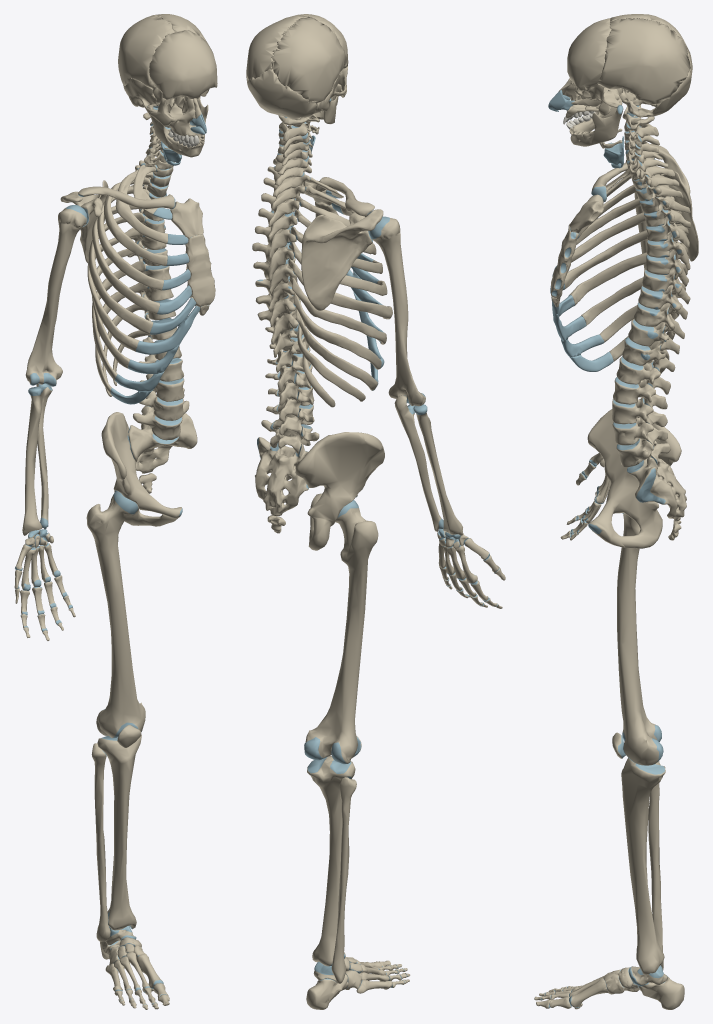
Rendered from bones.glb.
3 renders of one model, left to right at view 1: azimuth 30°, elevation 25°; view 2: azimuth 150°, elevation 25°; view 3: azimuth 270°, elevation 25°, orthographic. The views are drawn at different scales.
Visible parts, largest first — view 1: femur_r, frontal_bone, tibia_r, humerus_r, hip_bone_r, parietal_bone_r, sacrum, fibula_r, radius_r, body_of_sternum, sixth_rib_r, fourth_rib_r (+23 smaller); view 2: femur_r, hip_bone_r, scapula_r, parietal_bone_r, tibia_r, humerus_r, sacrum, fibula_r, occipital_bone, parietal_bone_l, ulna_r, radius_r (+17 smaller); view 3: parietal_bone_l, femur_r, hip_bone_r, tibia_r, frontal_bone, sacrum, fibula_r, mandible, scapula_r, occipital_bone, vertebra_l2, seventh_rib_r (+32 smaller).
Part boxes in pixels (x1=…): femur_r: x1=86, y1=491, x2=145, y2=737; frontal_bone: x1=149, y1=30, x2=217, y2=101; tibia_r: x1=97, y1=735, x2=141, y2=930; humerus_r: x1=25, y1=205, x2=87, y2=386; hip_bone_r: x1=101, y1=412, x2=182, y2=526; parietal_bone_r: x1=118, y1=15, x2=176, y2=87; sacrum: x1=128, y1=413, x2=197, y2=473; fibula_r: x1=91, y1=743, x2=110, y2=941; radius_r: x1=22, y1=386, x2=42, y2=535; body_of_sternum: x1=185, y1=234, x2=215, y2=306; sixth_rib_r: x1=88, y1=212, x2=153, y2=334; fourth_rib_r: x1=97, y1=185, x2=163, y2=290; femur_r: x1=304, y1=500, x2=378, y2=764; hip_bone_r: x1=295, y1=432, x2=384, y2=550; scapula_r: x1=301, y1=209, x2=383, y2=310; parietal_bone_r: x1=271, y1=16, x2=344, y2=103; tibia_r: x1=307, y1=756, x2=355, y2=966; humerus_r: x1=369, y1=216, x2=425, y2=406; sacrum: x1=255, y1=437, x2=308, y2=515; fibula_r: x1=331, y1=777, x2=356, y2=983; occipital_bone: x1=247, y1=69, x2=316, y2=118; parietal_bone_l: x1=246, y1=14, x2=307, y2=84; ulna_r: x1=394, y1=395, x2=443, y2=531; radius_r: x1=413, y1=404, x2=463, y2=535; parietal_bone_l: x1=597, y1=18, x2=690, y2=104; femur_r: x1=617, y1=513, x2=663, y2=765; hip_bone_r: x1=587, y1=409, x2=681, y2=548; tibia_r: x1=621, y1=758, x2=665, y2=975; frontal_bone: x1=567, y1=18, x2=611, y2=91; sacrum: x1=627, y1=441, x2=686, y2=521; fibula_r: x1=648, y1=761, x2=663, y2=970; mandible: x1=569, y1=104, x2=623, y2=146; scapula_r: x1=649, y1=144, x2=698, y2=261; occipital_bone: x1=619, y1=49, x2=692, y2=117; vertebra_l2: x1=613, y1=377, x2=667, y2=409; seventh_rib_r: x1=569, y1=242, x2=687, y2=305.
Size of the model in its own units: 0.4089 by 1.7 by 0.2501.
